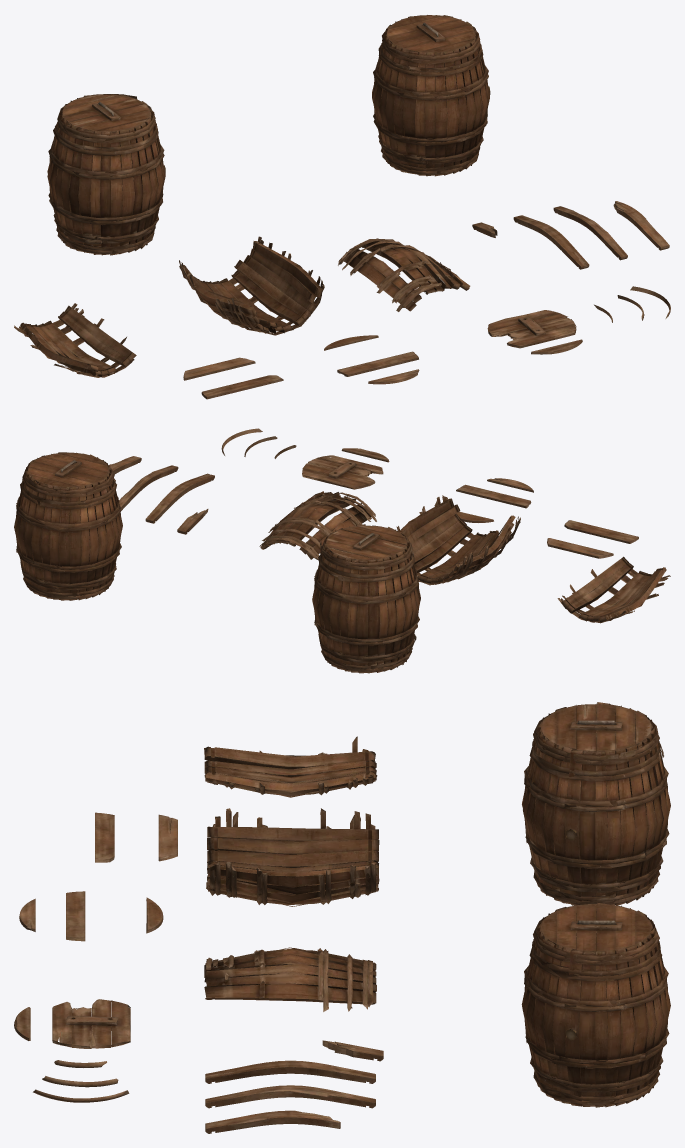
Rendered from wooden_barrels_01.glb.
3 renders of one model, top to bottom at view 1: azimuth 30°, elevation 25°; view 2: azimuth 150°, elevation 25°; view 3: azimuth 270°, elevation 25°, orthographic. The views are drawn at different scales.
Visible parts, largest first — view 1: wooden_barrels_01_barrel02, wooden_barrels_01_barrel01, wooden_barrels_01_piece01, wooden_barrels_01_piece03, wooden_barrels_01_piece02, wooden_barrels_01_piece08, wooden_barrels_01_piece04, wooden_barrels_01_piece05, wooden_barrels_01_piece06, wooden_barrels_01_piece11, wooden_barrels_01_piece14, wooden_barrels_01_piece13; view 2: wooden_barrels_01_barrel02, wooden_barrels_01_barrel01, wooden_barrels_01_piece01, wooden_barrels_01_piece03, wooden_barrels_01_piece02, wooden_barrels_01_piece08, wooden_barrels_01_piece04, wooden_barrels_01_piece14, wooden_barrels_01_piece11, wooden_barrels_01_piece05, wooden_barrels_01_piece13; view 3: wooden_barrels_01_barrel01, wooden_barrels_01_barrel02, wooden_barrels_01_piece01, wooden_barrels_01_piece03, wooden_barrels_01_piece02, wooden_barrels_01_piece08, wooden_barrels_01_piece04, wooden_barrels_01_piece05, wooden_barrels_01_piece06, wooden_barrels_01_piece11, wooden_barrels_01_piece14, wooden_barrels_01_piece13 (+1 smaller).
Part boxes in pixels (<box>): wooden_barrels_01_barrel02: <box>47,94,165,255</box>; wooden_barrels_01_barrel01: <box>372,15,490,176</box>; wooden_barrels_01_piece01: <box>179,236,324,335</box>; wooden_barrels_01_piece03: <box>338,238,470,311</box>; wooden_barrels_01_piece02: <box>14,303,136,377</box>; wooden_barrels_01_piece08: <box>487,310,576,348</box>; wooden_barrels_01_piece04: <box>513,215,589,269</box>; wooden_barrels_01_piece05: <box>553,206,627,260</box>; wooden_barrels_01_piece06: <box>613,201,669,250</box>; wooden_barrels_01_piece11: <box>337,351,418,376</box>; wooden_barrels_01_piece14: <box>201,375,283,399</box>; wooden_barrels_01_piece13: <box>183,357,255,380</box>; wooden_barrels_01_barrel02: <box>312,524,420,673</box>; wooden_barrels_01_barrel01: <box>14,452,122,600</box>; wooden_barrels_01_piece01: <box>396,495,520,585</box>; wooden_barrels_01_piece03: <box>259,491,376,560</box>; wooden_barrels_01_piece02: <box>557,556,670,623</box>; wooden_barrels_01_piece08: <box>302,455,383,489</box>; wooden_barrels_01_piece04: <box>145,473,214,523</box>; wooden_barrels_01_piece14: <box>564,520,638,543</box>; wooden_barrels_01_piece11: <box>456,484,531,508</box>; wooden_barrels_01_piece05: <box>119,465,178,510</box>; wooden_barrels_01_piece13: <box>547,538,613,558</box>; wooden_barrels_01_barrel01: <box>521,902,670,1107</box>; wooden_barrels_01_barrel02: <box>522,702,670,905</box>; wooden_barrels_01_piece01: <box>206,808,379,906</box>; wooden_barrels_01_piece03: <box>204,947,376,1011</box>; wooden_barrels_01_piece02: <box>204,736,377,797</box>; wooden_barrels_01_piece08: <box>52,999,130,1048</box>; wooden_barrels_01_piece04: <box>205,1060,375,1083</box>; wooden_barrels_01_piece05: <box>205,1085,375,1108</box>; wooden_barrels_01_piece06: <box>205,1110,340,1133</box>; wooden_barrels_01_piece11: <box>66,891,85,941</box>; wooden_barrels_01_piece14: <box>95,812,114,862</box>; wooden_barrels_01_piece13: <box>158,814,177,861</box>.
Bounding box in the file's own units: 4.44 × 0.9554 × 3.35.
Materials: 3 (3 with a texture image).
